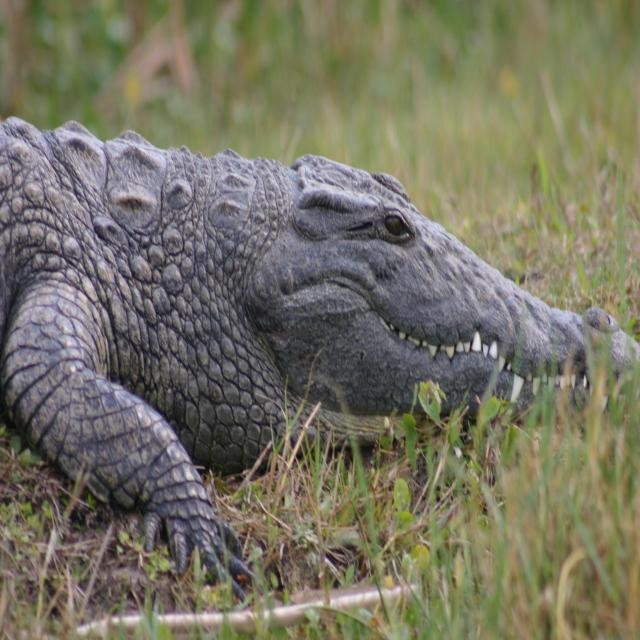crocodile: (0, 105, 640, 616)
